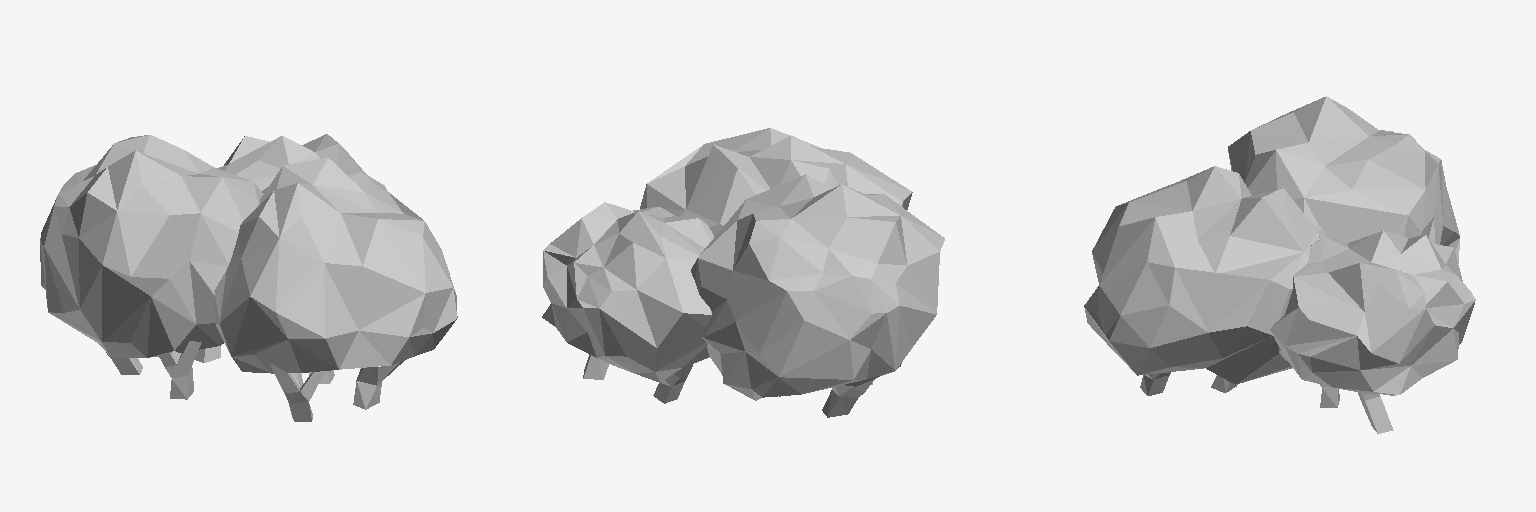
File: small-bush.obj
3 renders of one model, left to right at view 1: azimuth 30°, elevation 25°; view 2: azimuth 150°, elevation 25°; view 3: azimuth 270°, elevation 25°, orthographic.
Visible parts, largest first — view 1: Bush_group_big_Plane.138; view 2: Bush_group_big_Plane.138; view 3: Bush_group_big_Plane.138.
Boxes of the visible parts, box(x1,y1,x2,y2) form: Bush_group_big_Plane.138: box(40, 134, 457, 421); Bush_group_big_Plane.138: box(542, 128, 944, 417); Bush_group_big_Plane.138: box(1084, 96, 1475, 433).
Bounding box in the file's own units: 6.84 × 4.25 × 6.72.